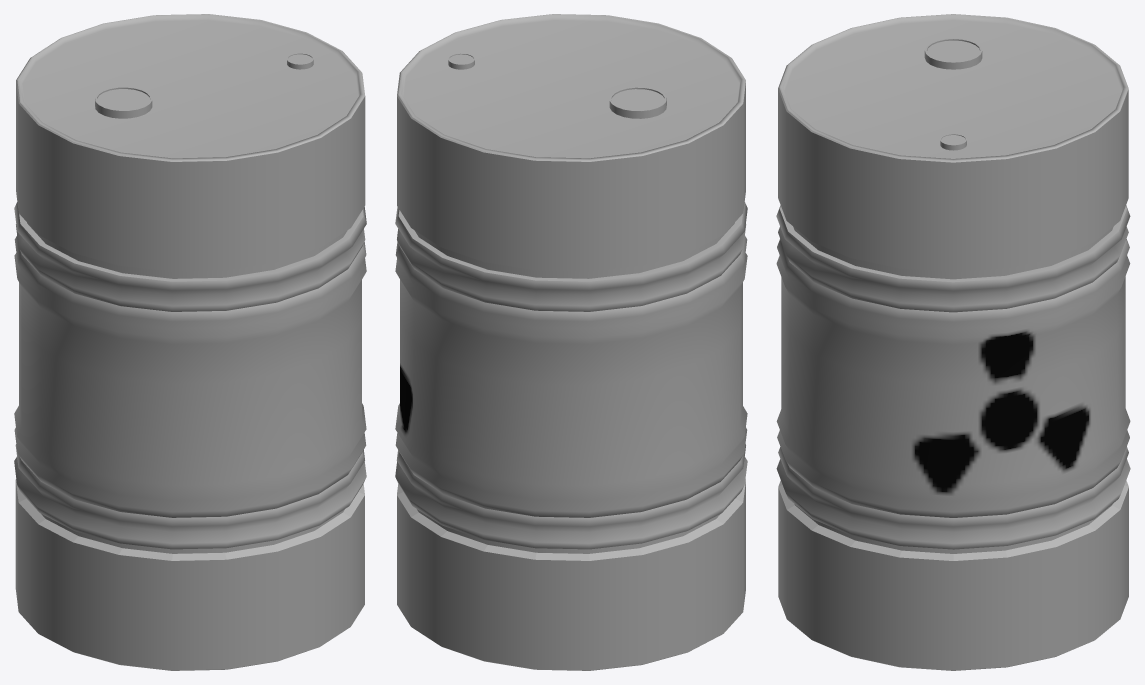
The model's file is better barrel.fbx.
3 views of the same model, side by side, from view 1: azimuth 30°, elevation 25°; view 2: azimuth 150°, elevation 25°; view 3: azimuth 270°, elevation 25° (orthographic).
Parts seen in each view (by area): view 1: pCube2; view 2: pCube2; view 3: pCube2.
Boxes of the visible parts, <box> form: pCube2: <box>14,14,366,670</box>; pCube2: <box>395,14,747,670</box>; pCube2: <box>776,14,1130,670</box>.
Size of the model in its own units: 4.05 by 6.5 by 4.05.
Materials: 1 (1 with a texture image).
